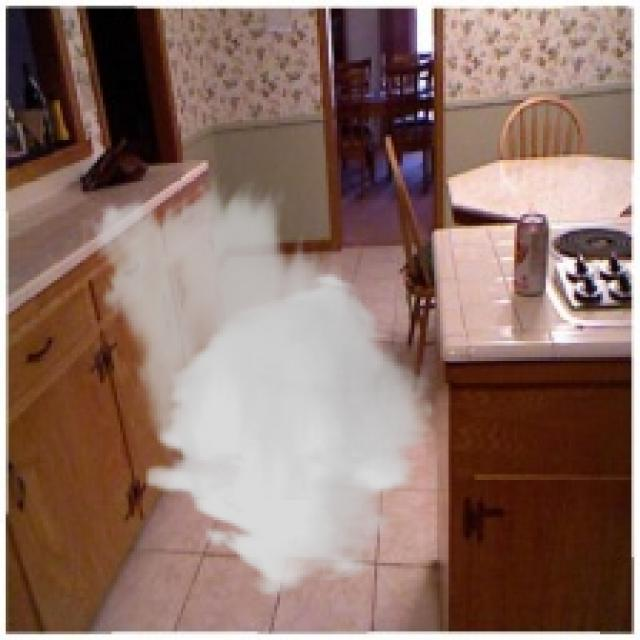smoke: (80, 174, 431, 597)
